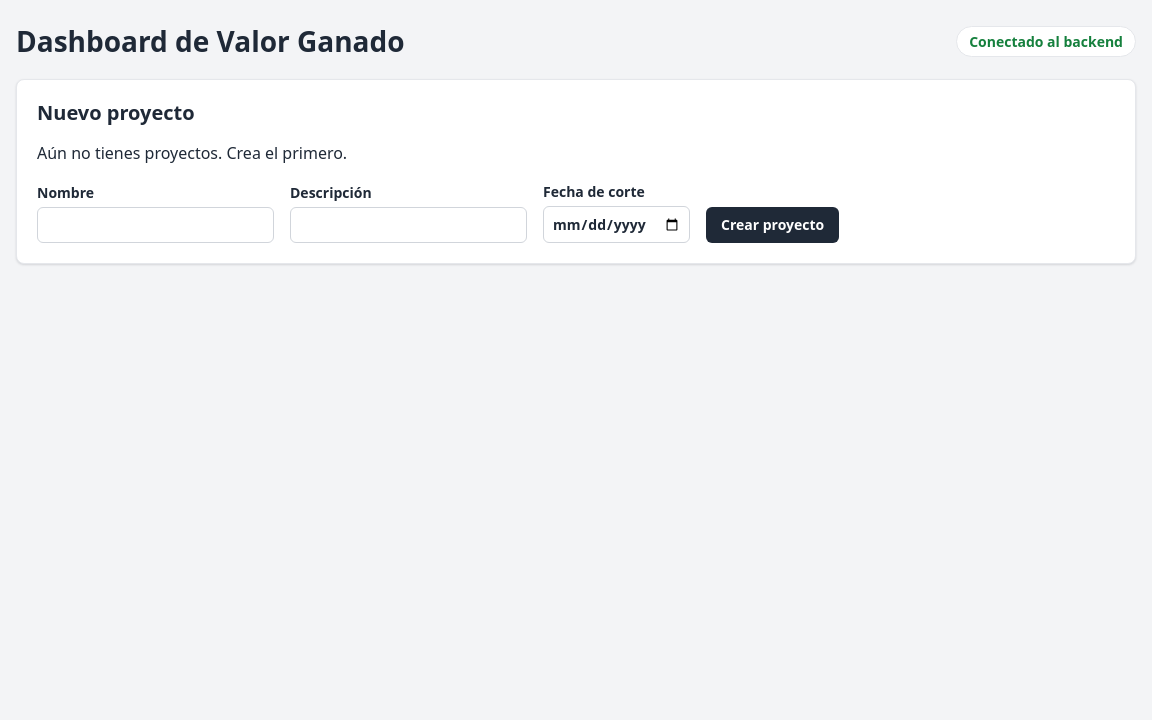
Test: App projects workflow › asks to create the first project and then shows its activities
Expected: the text "Aún no tienes proyectos. Crea el primero." is shown, [37,142,347,164]
Type "  Portal de clientes  " into the field labelled "Nombre" at [156, 225], box [37,207,274,243]
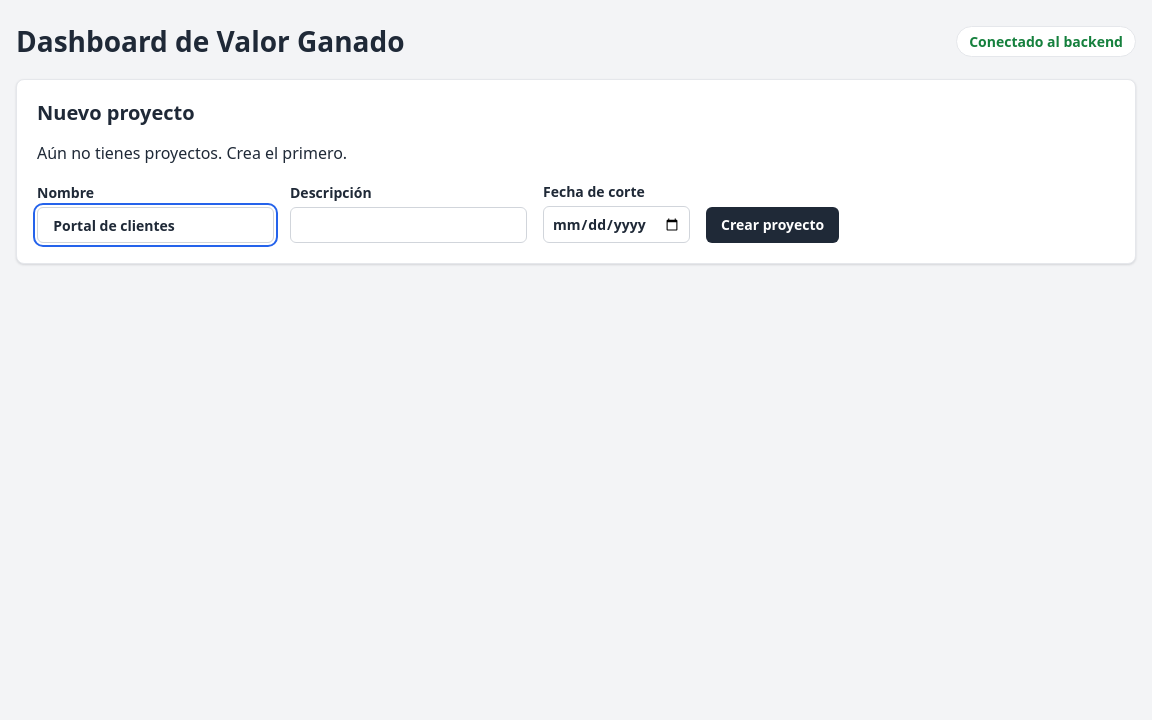
Type "2026-10-07" into the date field labelled "Fecha de corte" at [616, 224], box [543,206,690,243]
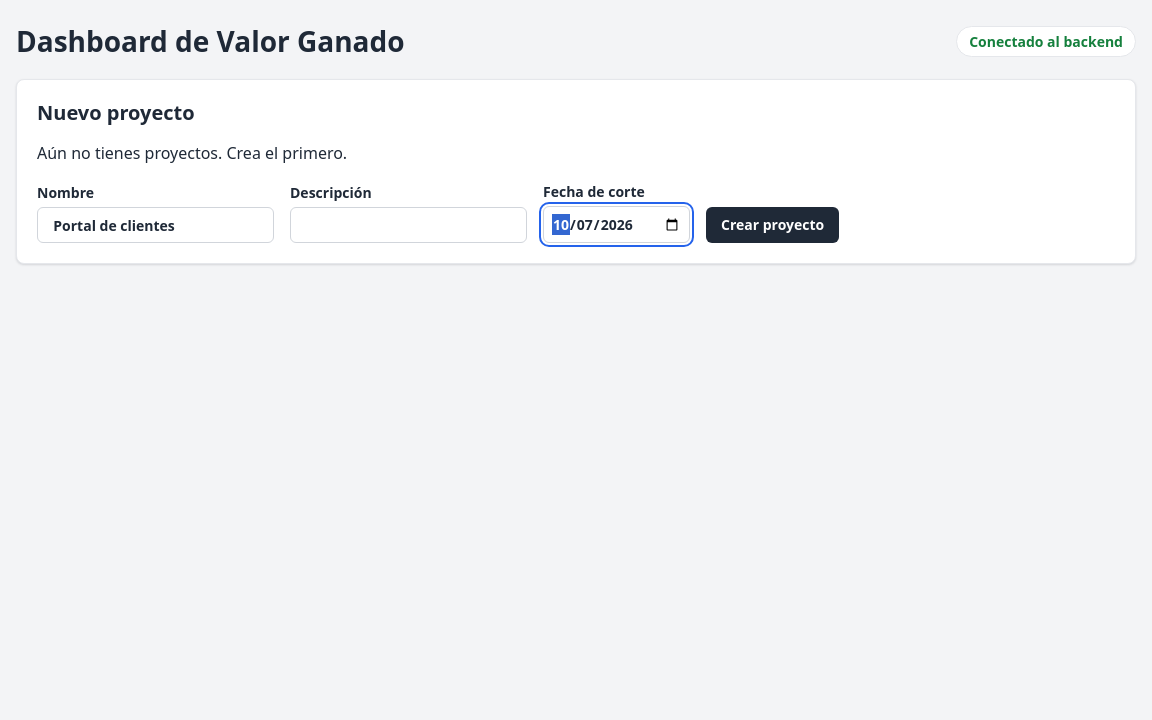
Click the button "Crear proyecto" at [773, 225], box [706,207,839,243]
(page scrolled)
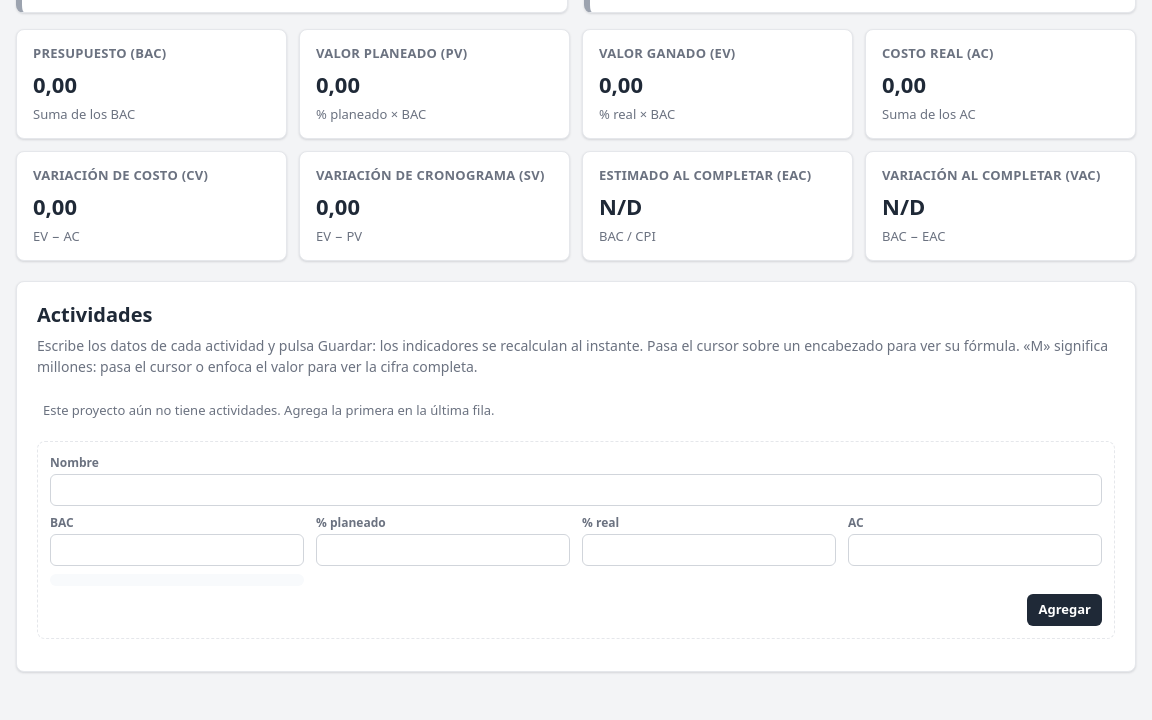
Now the text "Este proyecto aún no tiene actividades" is shown, box [43,401,494,419]
